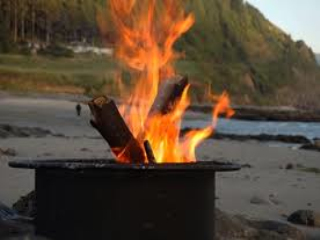fire: (100, 6, 232, 165)
